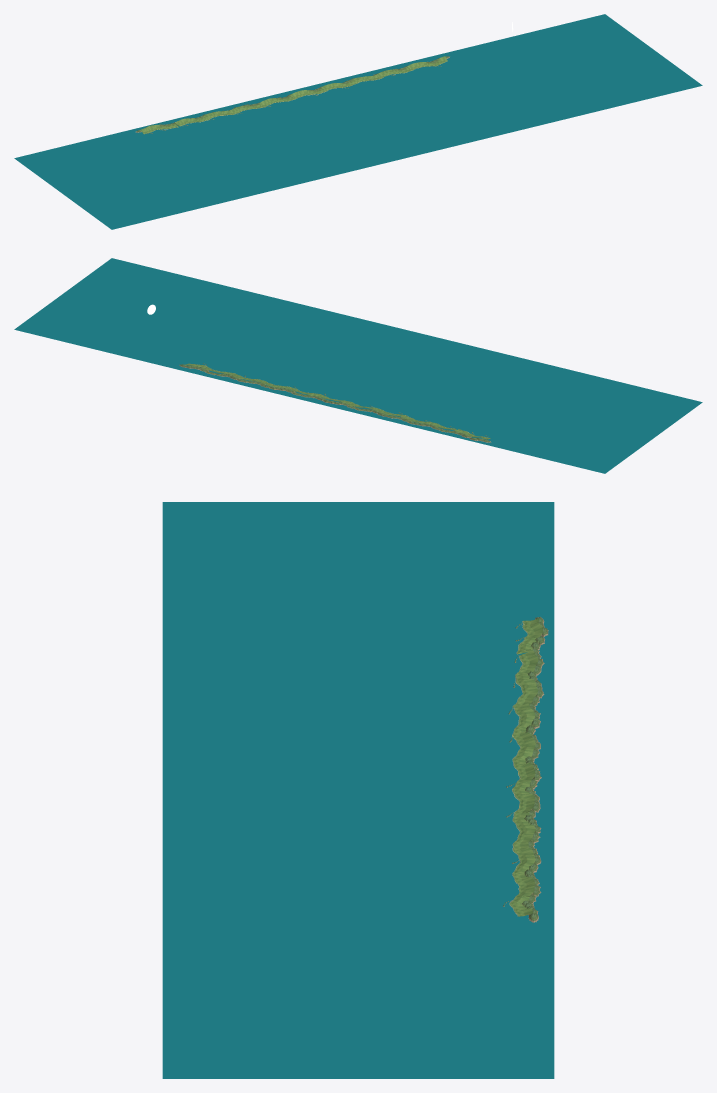
The model's file is bayofislands.glb.
3 renders of one model, top to bottom at view 1: azimuth 30°, elevation 25°; view 2: azimuth 150°, elevation 25°; view 3: azimuth 270°, elevation 25°, orthographic. The views are drawn at different scales.
Visible parts, largest first — view 1: Sea, Peaks; view 2: Sea, Peaks; view 3: Sea, Peaks.
Part boxes in pixels (bbox=[...]): Sea: bbox=[14, 14, 702, 229]; Peaks: bbox=[135, 56, 449, 133]; Sea: bbox=[14, 258, 702, 473]; Peaks: bbox=[179, 363, 491, 442]; Sea: bbox=[162, 502, 554, 1078]; Peaks: bbox=[503, 617, 548, 922].
Bounding box in the file's own units: 53000 × 3149 × 15200.
